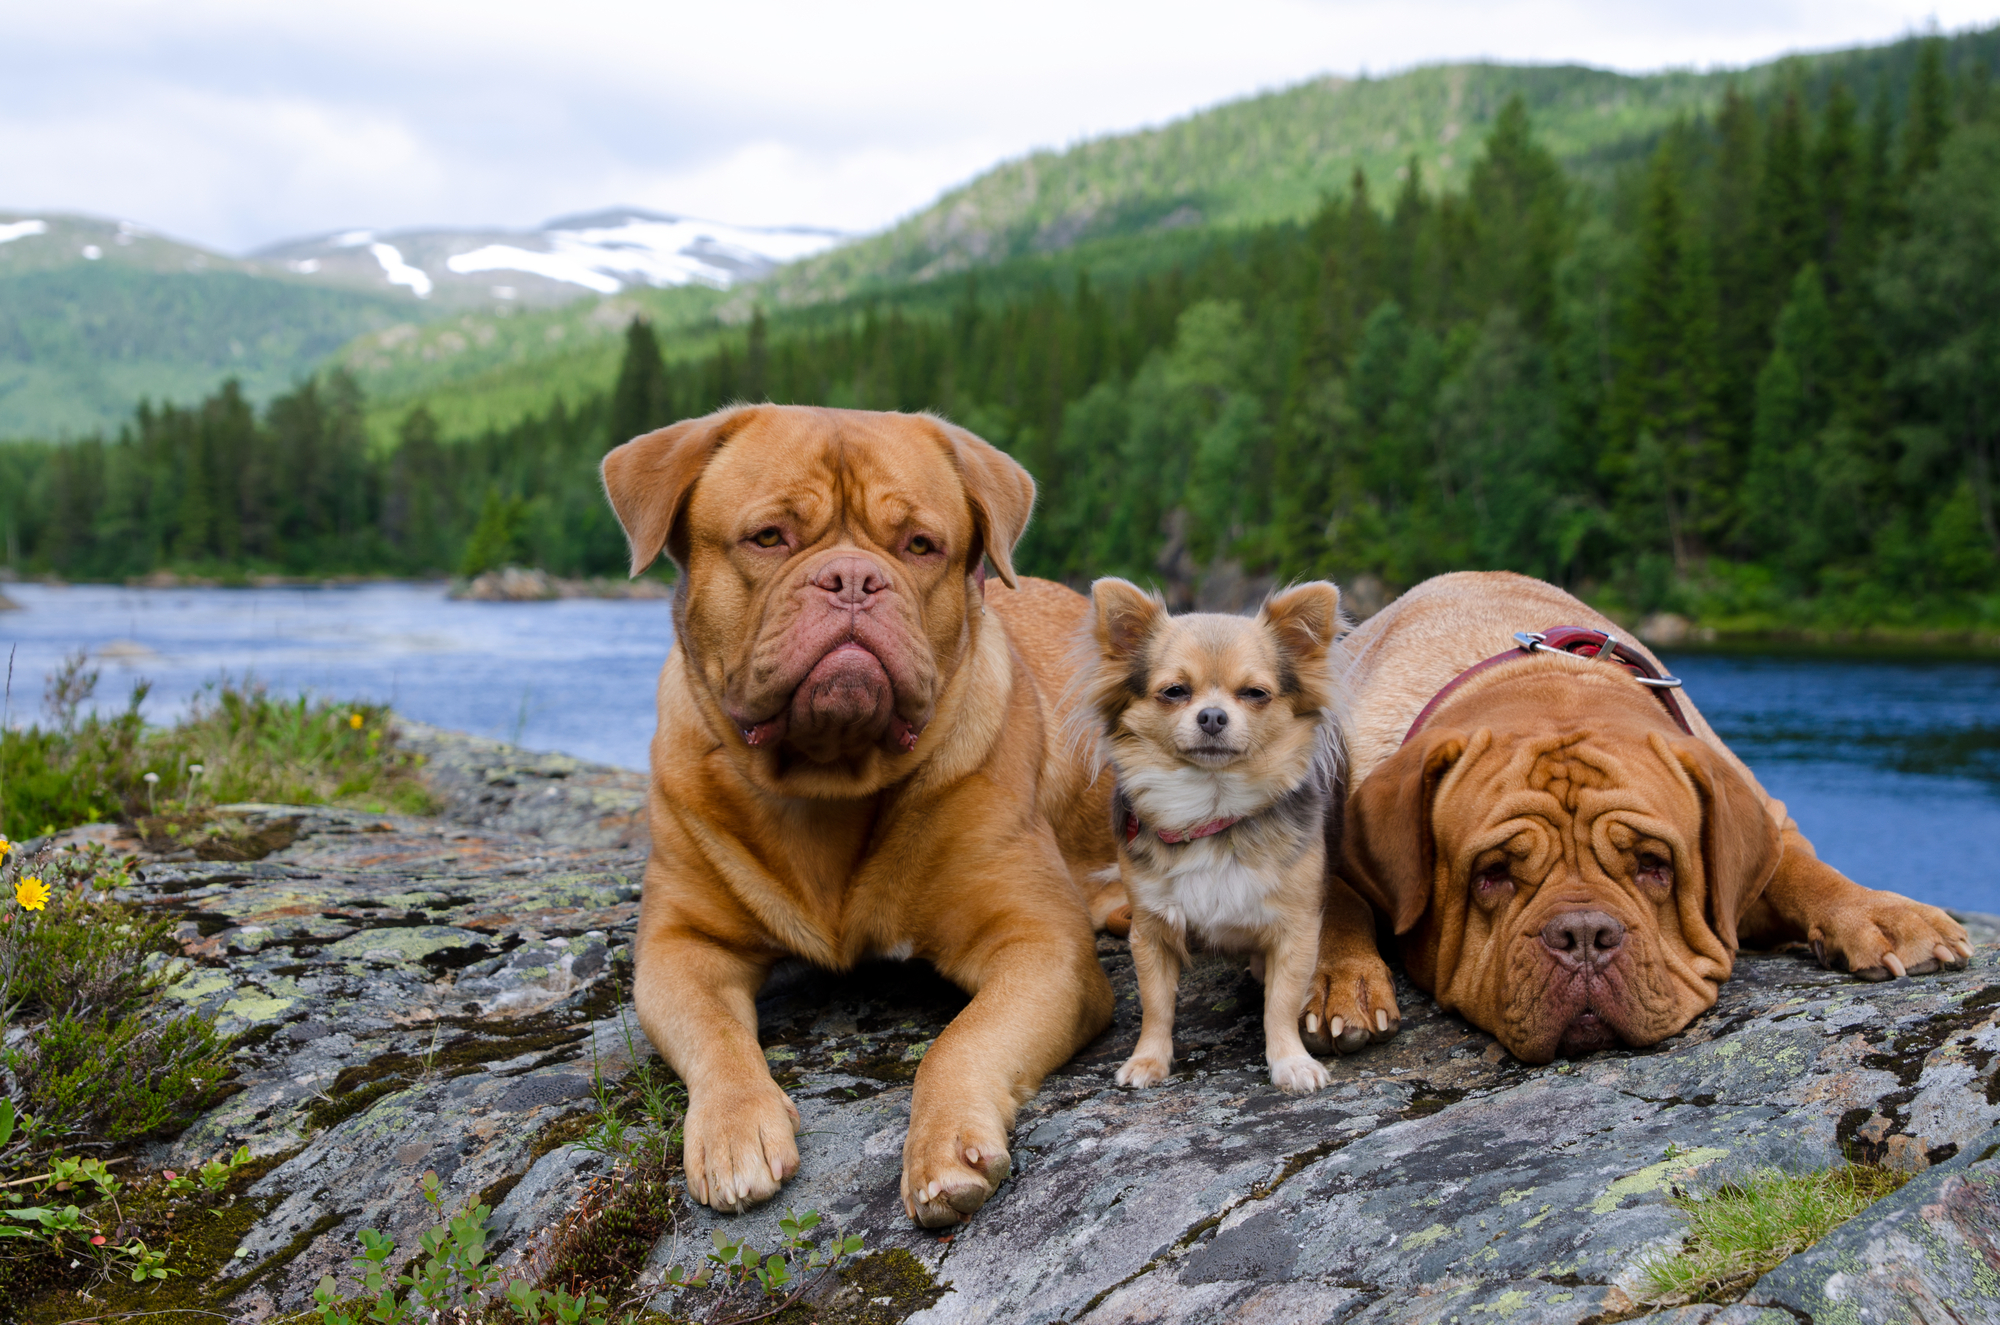Dog: (568, 384, 1097, 1238), (1290, 523, 1988, 1078), (1044, 558, 1357, 1118)
